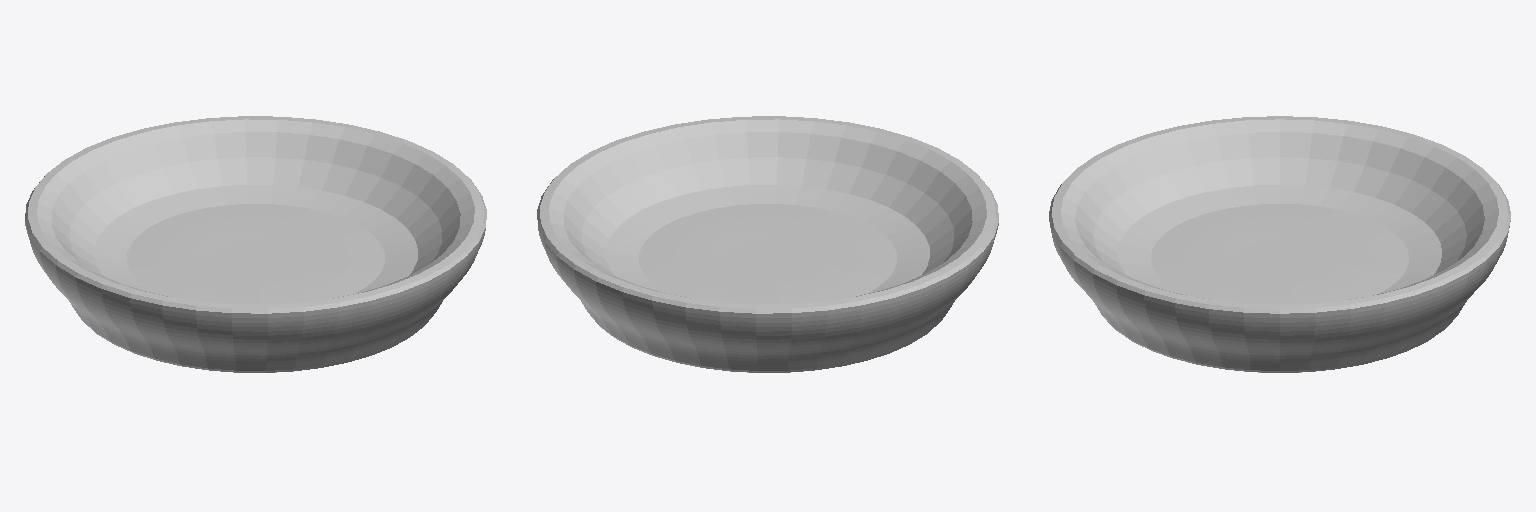
Rendered from Bowl.obj.
3 renders of one model, left to right at view 1: azimuth 30°, elevation 25°; view 2: azimuth 150°, elevation 25°; view 3: azimuth 270°, elevation 25°, orthographic.
Parts seen in each view (by area): view 1: pCylinder1; view 2: pCylinder1; view 3: pCylinder1.
Part boxes in pixels (x1,y1,x2,y2): pCylinder1: (25,116,486,372); pCylinder1: (537,116,998,372); pCylinder1: (1049,116,1510,372).
Bounding box in the file's own units: 1.1 × 0.2318 × 1.1.